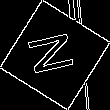N_E: (26, 29, 84, 81)
